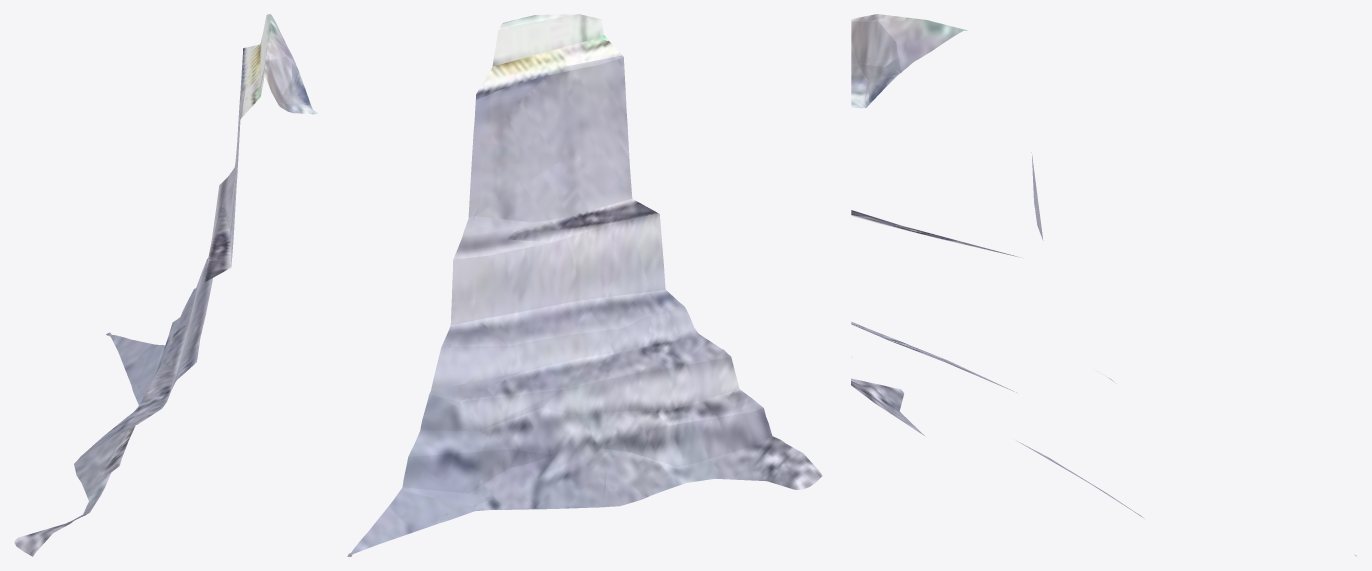
The model's file is Tile_+008_+005_L20_000750.glb.
3 renders of one model, left to right at view 1: azimuth 30°, elevation 25°; view 2: azimuth 150°, elevation 25°; view 3: azimuth 270°, elevation 25°, orthographic. The views are drawn at different scales.
Parts seen in each view (by area): view 1: rtc; view 2: rtc; view 3: rtc.
Boxes of the visible parts, bbox=[...] form: rtc: bbox=[14, 14, 318, 556]; rtc: bbox=[347, 14, 822, 556]; rtc: bbox=[851, 14, 1356, 556].
Size of the model in its own units: 10.3 by 14.99 by 13.05.
Materials: 1 (1 with a texture image).
